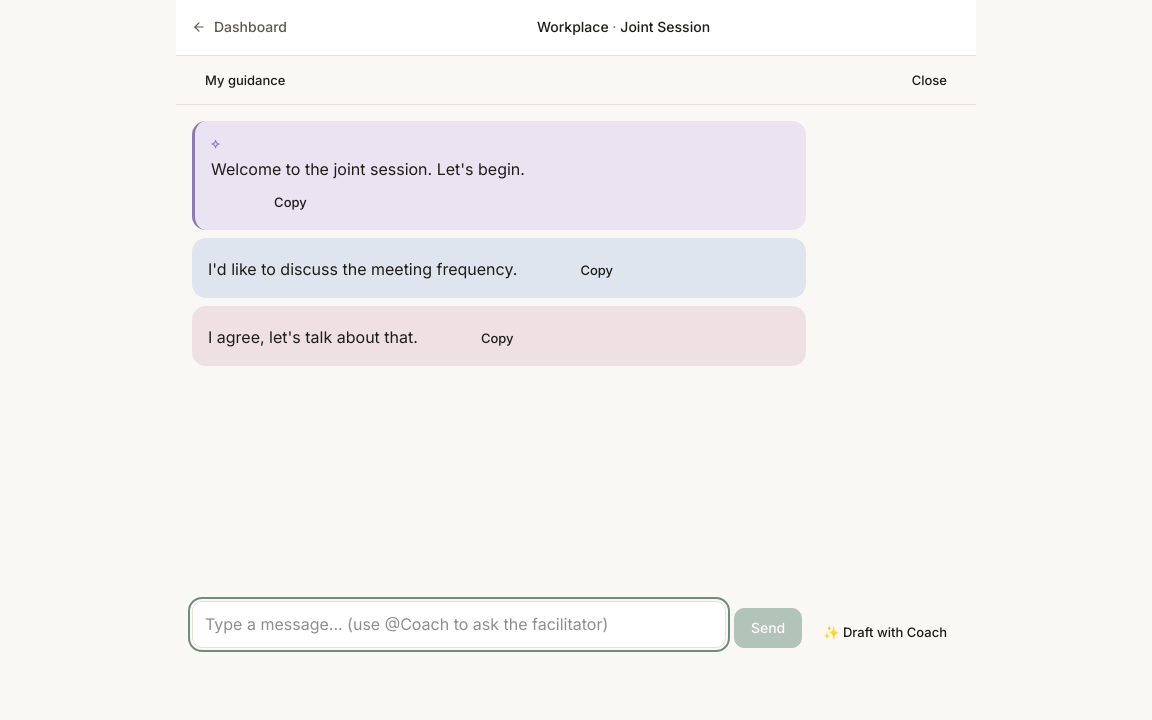
Scenario: AC: Top nav: 'My guidance' link opens synthesis panel, 'Close' button opens closure modal › clicking 'My guidance' shows synthesis text in panel
The image size is (1152, 720).
Click the button "My guidance": click(245, 80) 192,64 -> 298,96
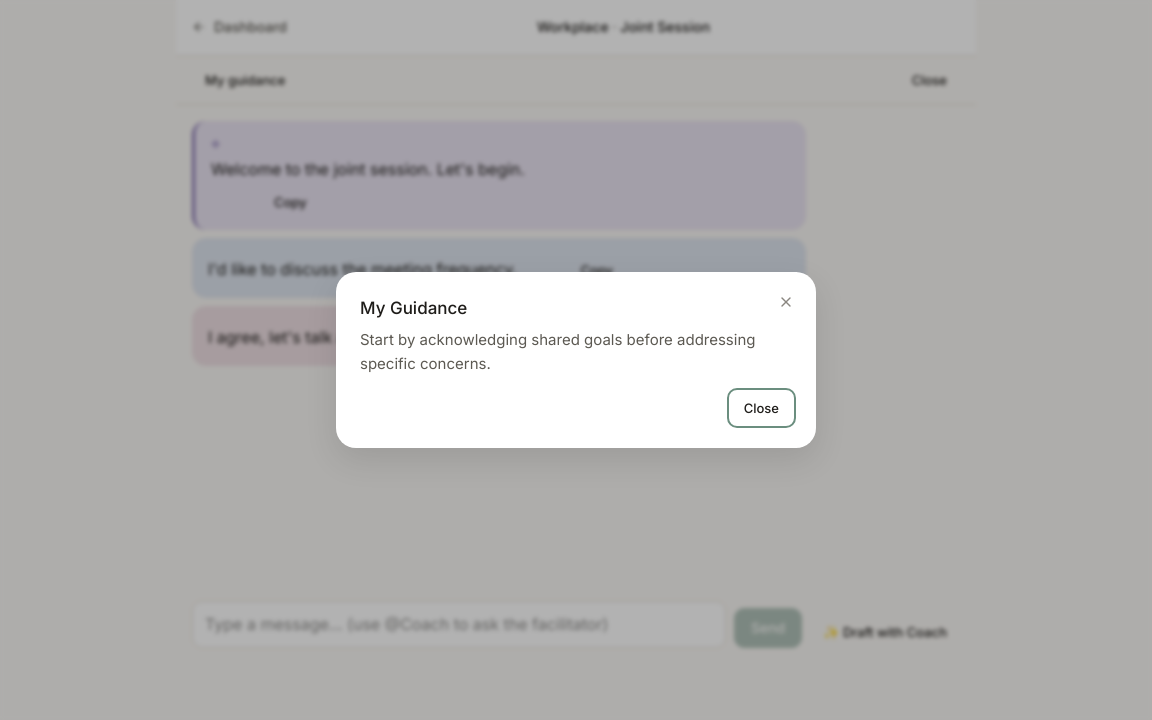
Expected: the text "Start by acknowledging shared goals" is shown, 360,330 -> 756,373
